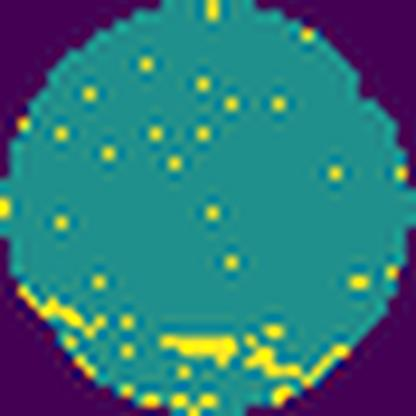Loc: (163, 334, 237, 366)
